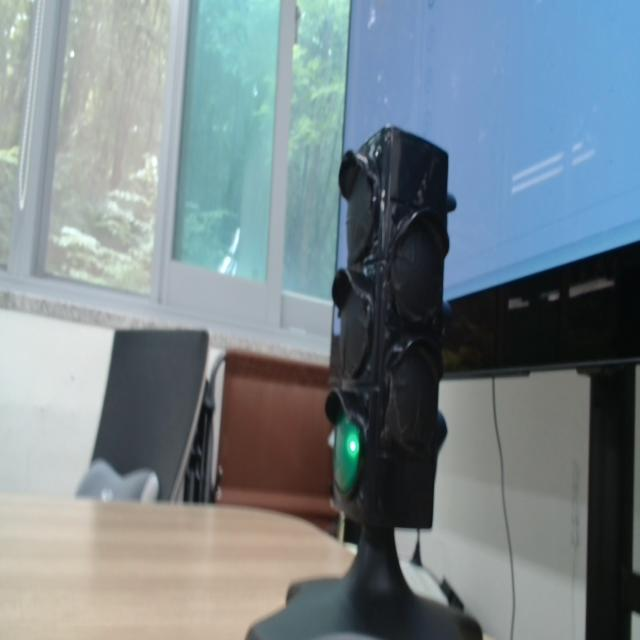green_light: (334, 415, 361, 493)
